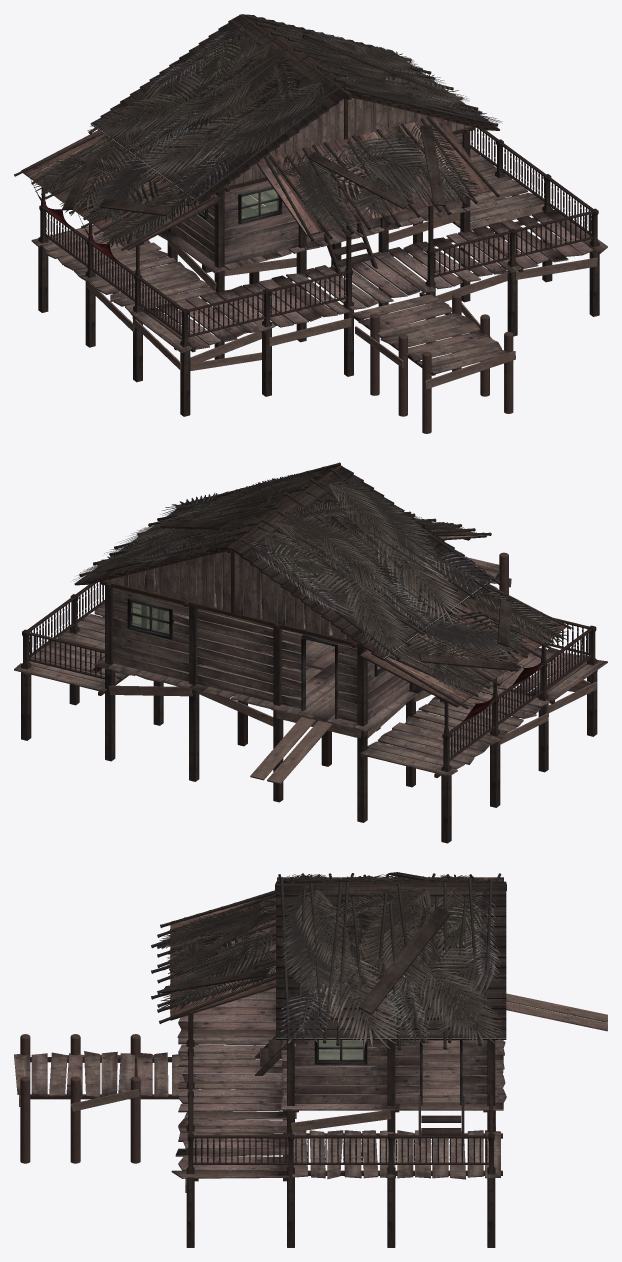
Rendered from PUERTO RUSTICO.fbx.
The picture shows the model from 3 angles, top to bottom: view 1: azimuth 30°, elevation 25°; view 2: azimuth 150°, elevation 25°; view 3: azimuth 270°, elevation 25°; orthographic projection. The views are drawn at different scales.
Visible parts, largest first — view 1: VALVoodoohut_MainB.Shape; view 2: VALVoodoohut_MainB.Shape; view 3: VALVoodoohut_MainB.Shape.
Part boxes in pixels (x1=…): VALVoodoohut_MainB.Shape: x1=14, y1=14, x2=607, y2=433; VALVoodoohut_MainB.Shape: x1=14, y1=462, x2=607, y2=843; VALVoodoohut_MainB.Shape: x1=14, y1=872, x2=607, y2=1247.
Bounding box in the file's own units: 1336 × 704 × 1445.
